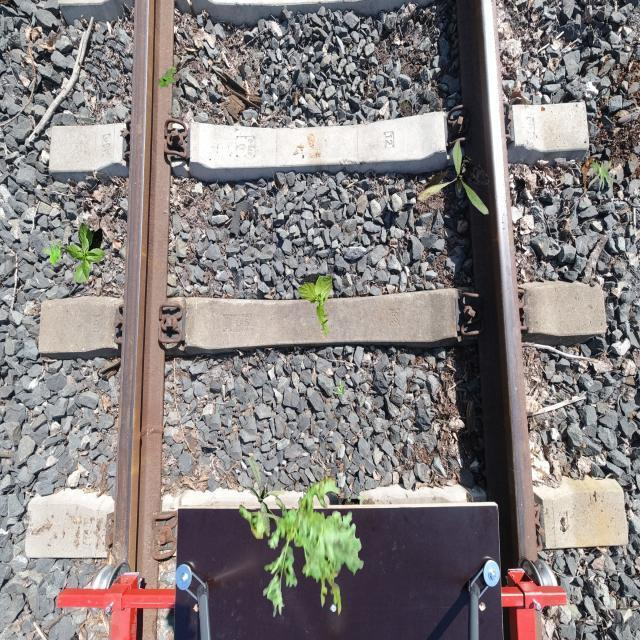Plant: (239, 471, 364, 618), (417, 140, 488, 215), (246, 455, 286, 538), (63, 222, 105, 282), (297, 273, 332, 336), (588, 159, 620, 194), (42, 241, 62, 266), (158, 66, 178, 90), (333, 379, 347, 394)
